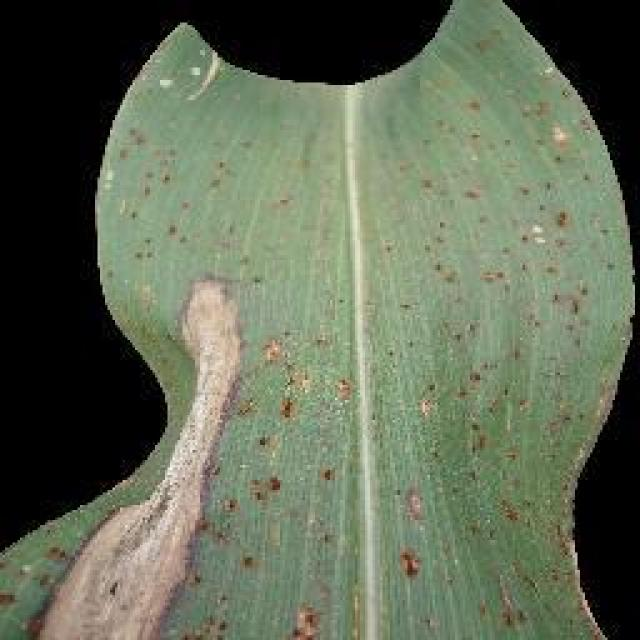Corn Common Rust: (105, 197, 532, 630)
